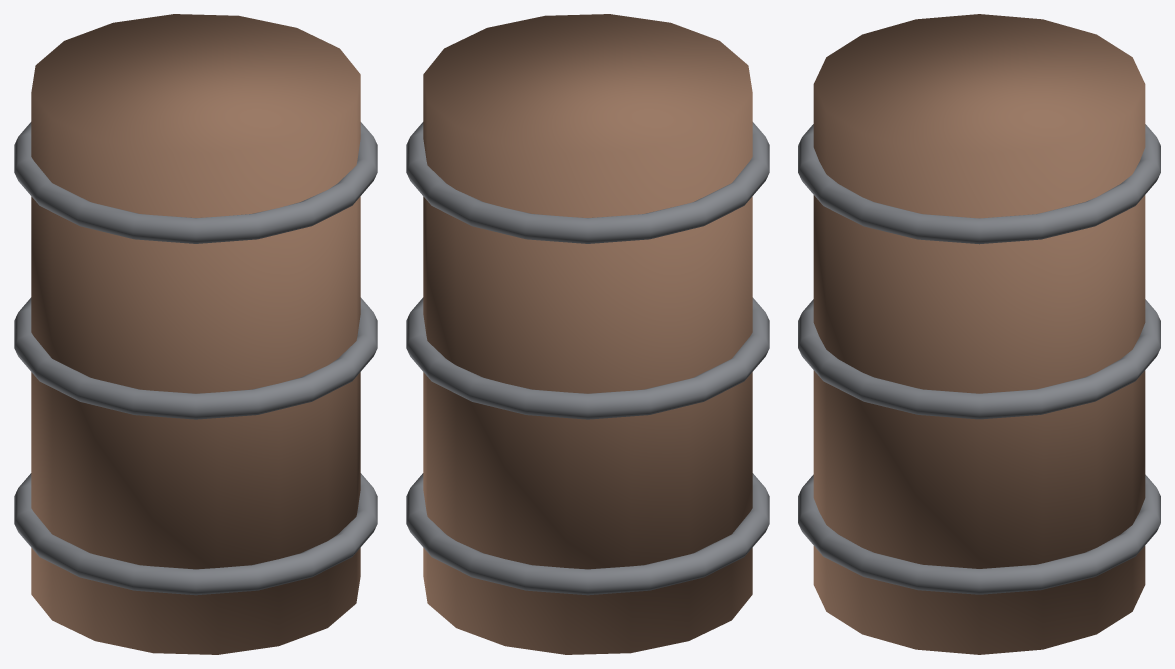
The model's file is prop_drumcan.glb.
3 renders of one model, left to right at view 1: azimuth 30°, elevation 25°; view 2: azimuth 150°, elevation 25°; view 3: azimuth 270°, elevation 25°, orthographic.
Parts seen in each view (by area): view 1: drumcan; view 2: drumcan; view 3: drumcan.
Part boxes in pixels (<box>): drumcan: <box>14,14,377,654</box>; drumcan: <box>406,14,769,654</box>; drumcan: <box>798,14,1160,654</box>.
Bounding box in the file's own units: 0.8 × 1.2 × 0.7878.
